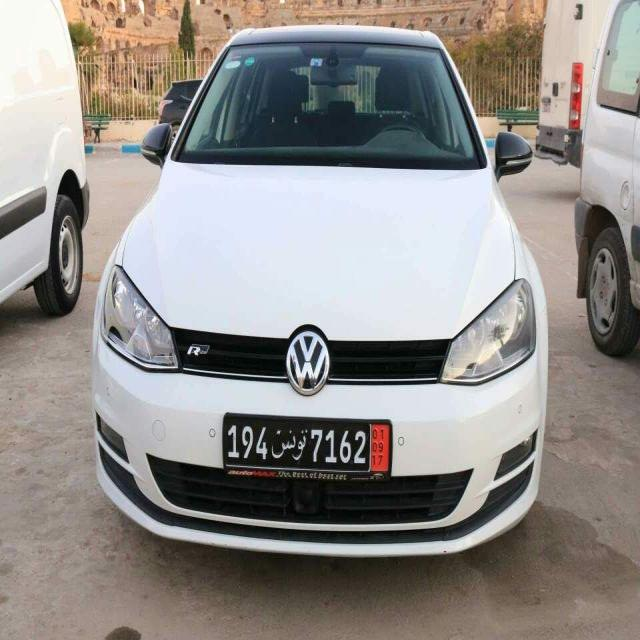LP: (220, 412, 372, 476)
